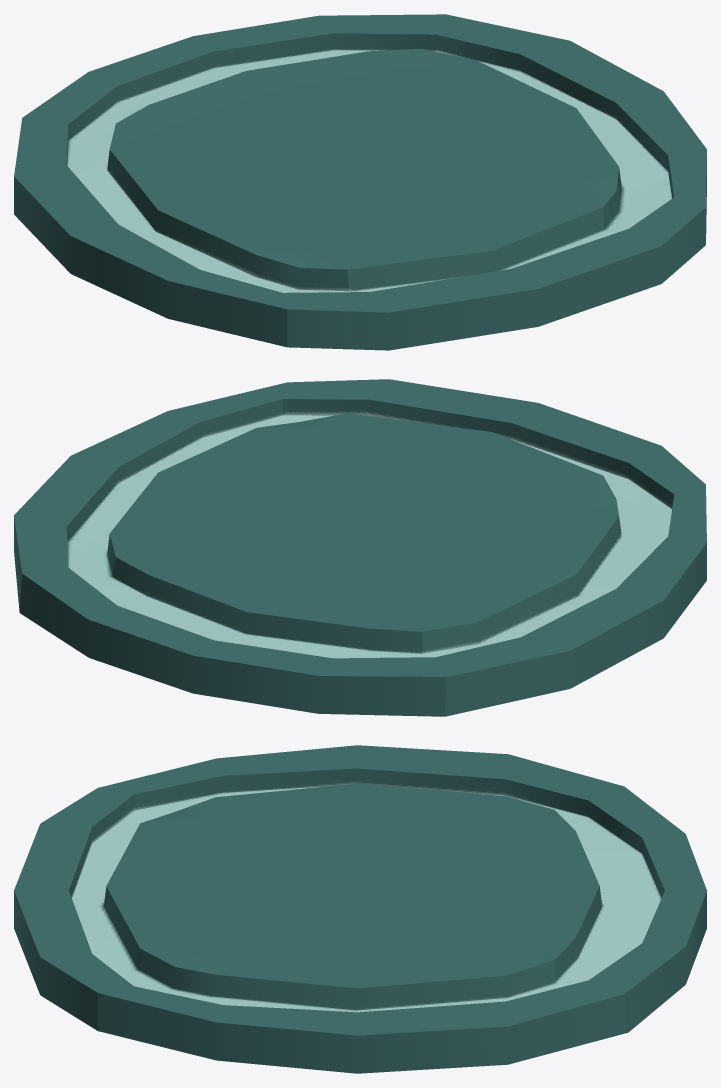
The model's file is waist.fbx.
3 views of the same model, one above another, from view 1: azimuth 30°, elevation 25°; view 2: azimuth 150°, elevation 25°; view 3: azimuth 270°, elevation 25° (orthographic).
Parts seen in each view (by area): view 1: polySurface2; view 2: polySurface2; view 3: polySurface2.
Part boxes in pixels (x1,y1,x2,y2): polySurface2: [14, 14, 706, 350]; polySurface2: [14, 379, 706, 716]; polySurface2: [14, 745, 706, 1073].
Bounding box in the file's own units: 5.99 × 0.4242 × 6.04.
Materials: 1 (1 with a texture image).
